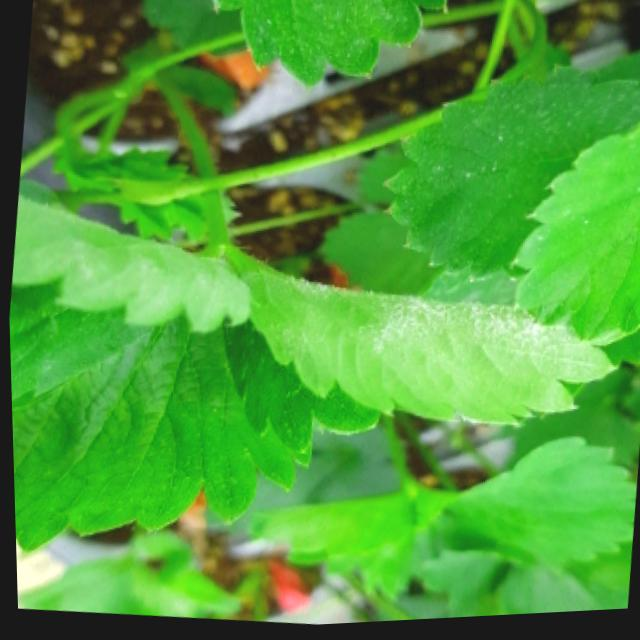Powdery Mildew Leaf: (217, 239, 615, 456), (7, 177, 247, 400)
